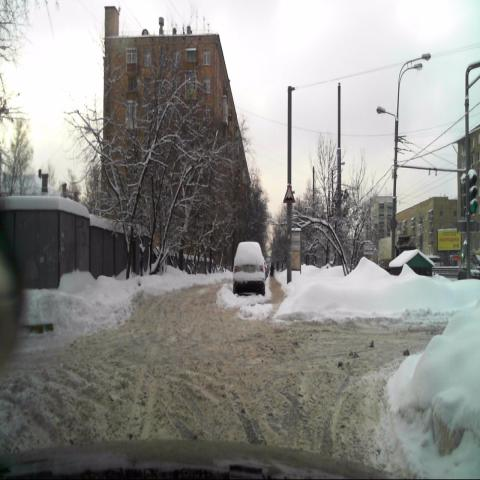1_16: (282, 184, 296, 204)
